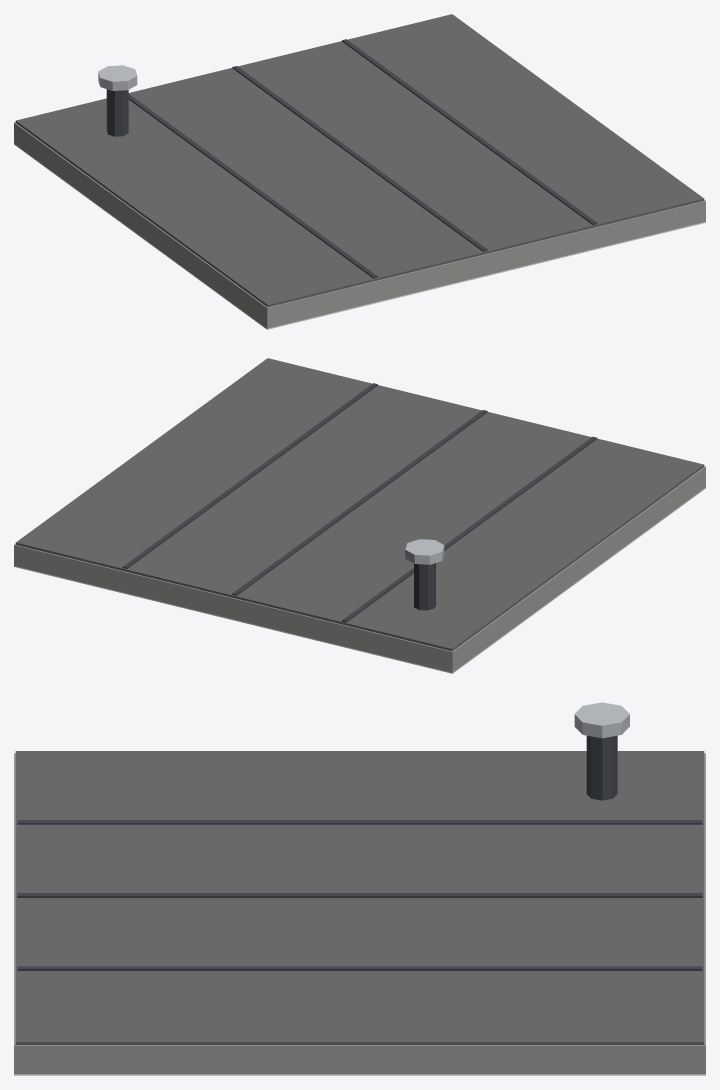
The model's file is Mart_Roof_Flat_4m.glb.
3 views of the same model, one above another, from view 1: azimuth 30°, elevation 25°; view 2: azimuth 150°, elevation 25°; view 3: azimuth 270°, elevation 25° (orthographic). The views are drawn at different scales.
Parts seen in each view (by area): view 1: Mart_Roof_Flat_4m; view 2: Mart_Roof_Flat_4m; view 3: Mart_Roof_Flat_4m.
Boxes of the visible parts, bbox=[...] form: Mart_Roof_Flat_4m: bbox=[14, 14, 705, 329]; Mart_Roof_Flat_4m: bbox=[14, 358, 705, 673]; Mart_Roof_Flat_4m: bbox=[14, 702, 705, 1075].
Size of the model in its own units: 4 by 0.756 by 4.
1 material, 1 textured.
